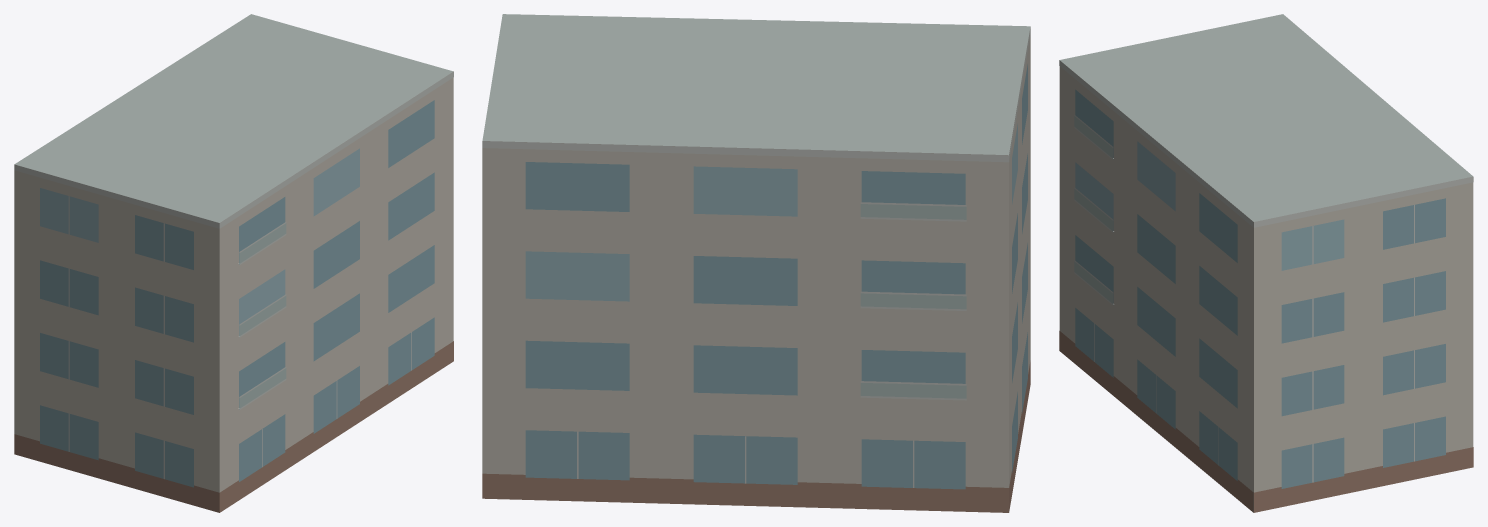
The model's file is survey-upis-32730950.glb.
3 views of the same model, side by side, from view 1: azimuth 30°, elevation 25°; view 2: azimuth 150°, elevation 25°; view 3: azimuth 270°, elevation 25° (orthographic). The views are drawn at different scales.
Parts seen in each view (by area): view 1: survey-upis-32730950.tmp; view 2: survey-upis-32730950.tmp; view 3: survey-upis-32730950.tmp.
Part boxes in pixels (box(x1,y1,x2,y2)): survey-upis-32730950.tmp: box(14, 14, 453, 512); survey-upis-32730950.tmp: box(482, 14, 1030, 512); survey-upis-32730950.tmp: box(1059, 14, 1473, 512).
Bounding box in the file's own units: 18.72 × 12.2 × 15.75.
